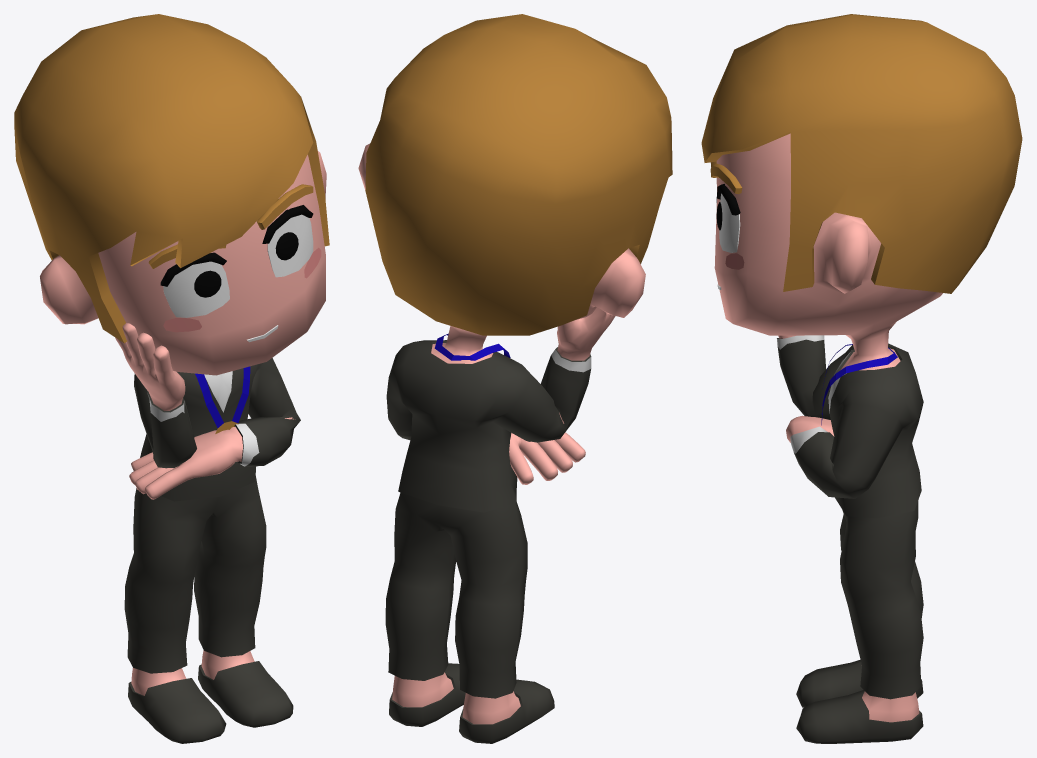
The model's file is Personaje_juzgado_4.fbx.
3 views of the same model, side by side, from view 1: azimuth 30°, elevation 25°; view 2: azimuth 150°, elevation 25°; view 3: azimuth 270°, elevation 25° (orthographic). The views are drawn at different scales.
Visible parts, largest first — view 1: hair5.004, body.058, pants1.030, shirt3.042, shoes2.016, eyesbase1.007, eyebrows1.046, eyes6.034, Plane.026, cheeks.018; view 2: hair5.004, pants1.030, shirt3.042, body.058, shoes2.016, Plane.026; view 3: hair5.004, body.058, shirt3.042, pants1.030, shoes2.016, eyesbase1.007, Plane.026.
Part boxes in pixels (left/top/right/bottom): hair5.004: left=14, top=14, right=329, bottom=343; body.058: left=40, top=151, right=326, bottom=695; pants1.030: left=124, top=476, right=266, bottom=673; shirt3.042: left=134, top=358, right=300, bottom=501; shoes2.016: left=128, top=661, right=293, bottom=743; eyesbase1.007: left=160, top=205, right=313, bottom=317; eyebrows1.046: left=148, top=184, right=313, bottom=268; eyes6.034: left=194, top=232, right=298, bottom=297; Plane.026: left=195, top=366, right=250, bottom=433; cheeks.018: left=163, top=247, right=321, bottom=332; hair5.004: left=365, top=14, right=672, bottom=335; pants1.030: left=385, top=492, right=527, bottom=698; shirt3.042: left=386, top=340, right=591, bottom=512; body.058: left=358, top=143, right=645, bottom=724; shoes2.016: left=389, top=663, right=554, bottom=743; Plane.026: left=434, top=333, right=510, bottom=360; hair5.004: left=701, top=14, right=1022, bottom=293; body.058: left=714, top=133, right=942, bottom=722; shirt3.042: left=776, top=335, right=923, bottom=518; pants1.030: left=840, top=501, right=923, bottom=699; shoes2.016: left=796, top=659, right=923, bottom=743; eyesbase1.007: left=717, top=184, right=740, bottom=252; Plane.026: left=821, top=344, right=897, bottom=425.
Bounding box in the file's own units: 73.81 × 172 × 74.77.
